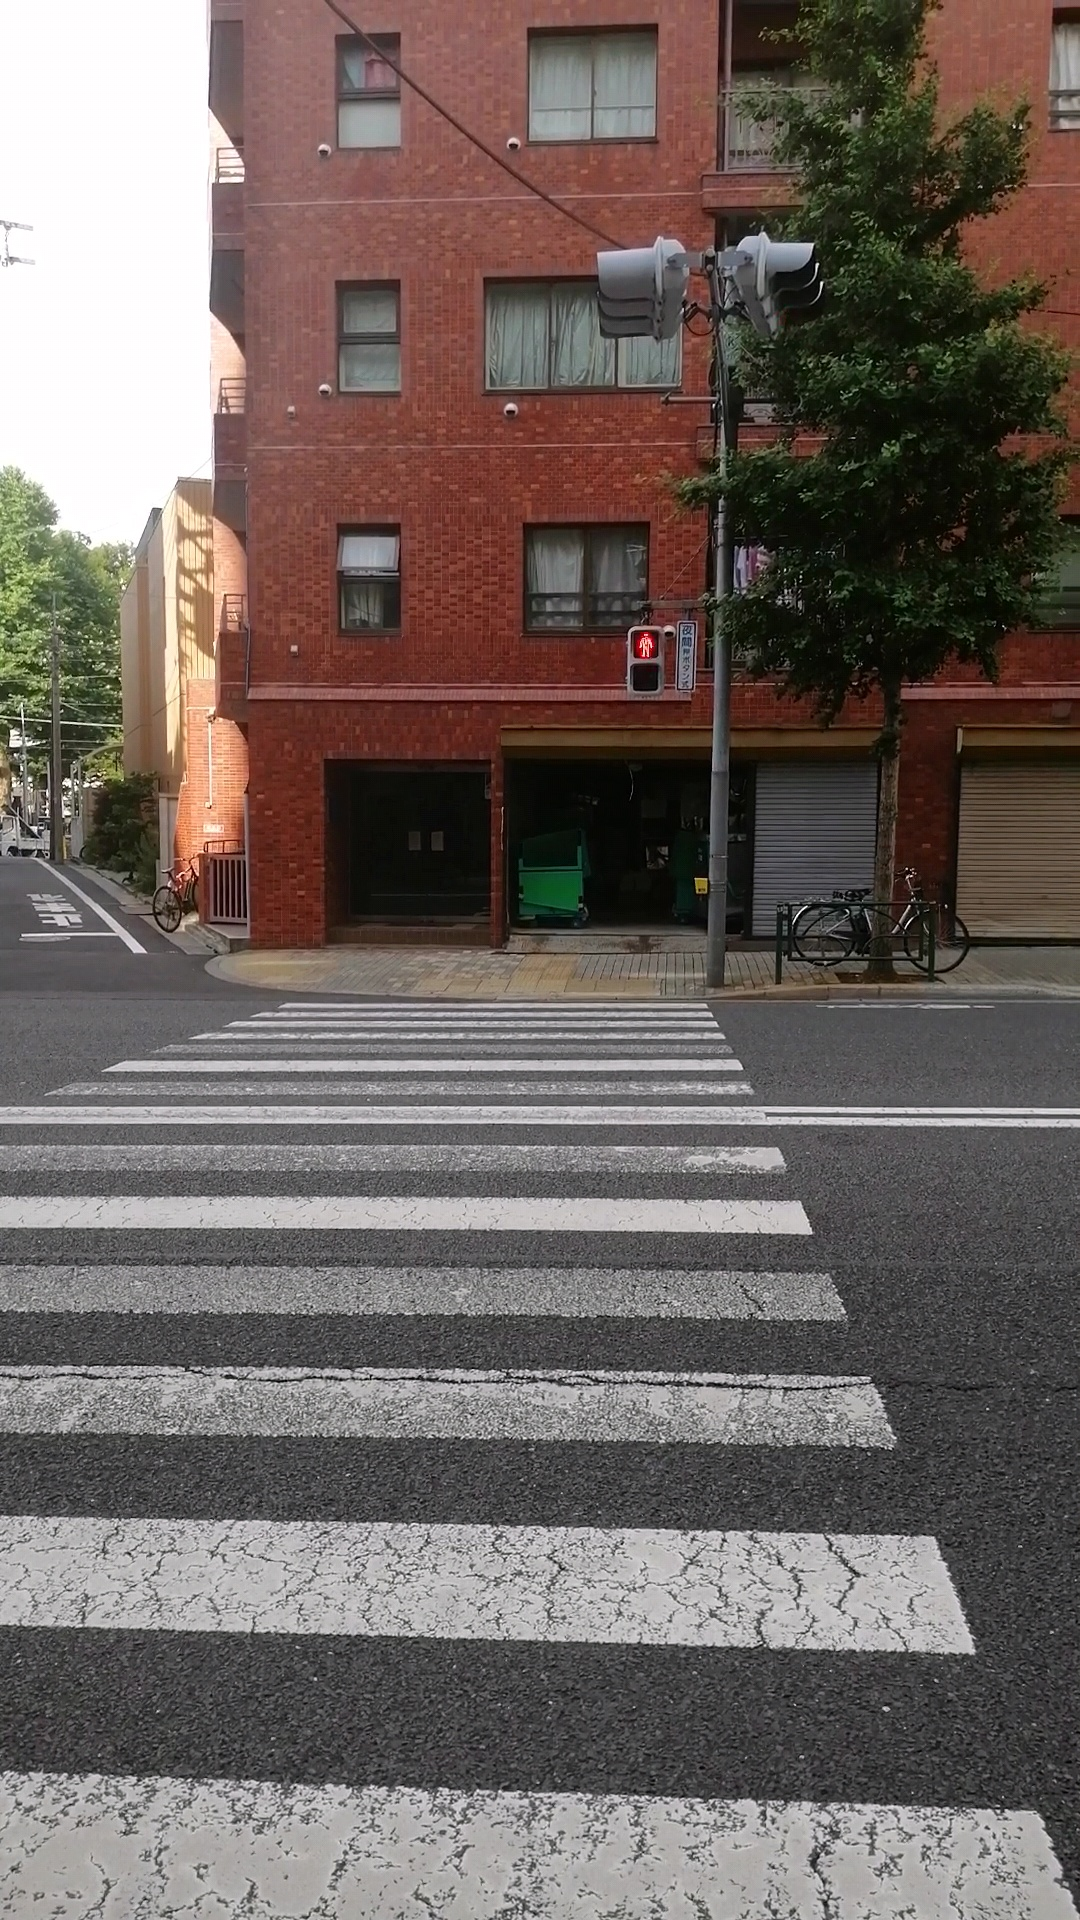red: (625, 622, 662, 694)
